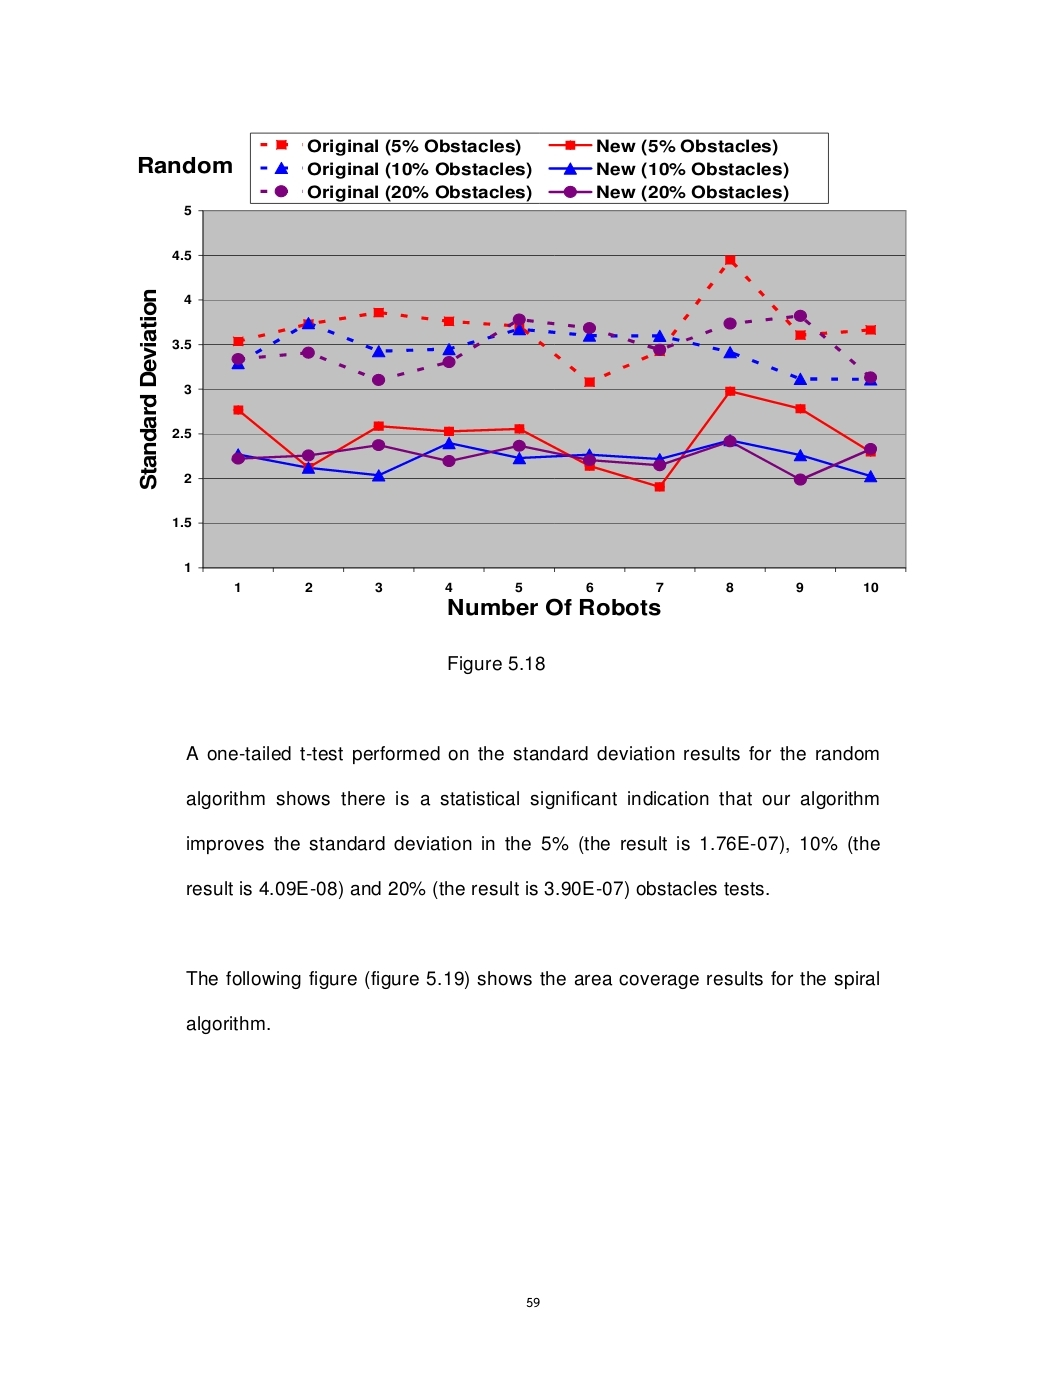figure: (138, 132, 906, 615)
